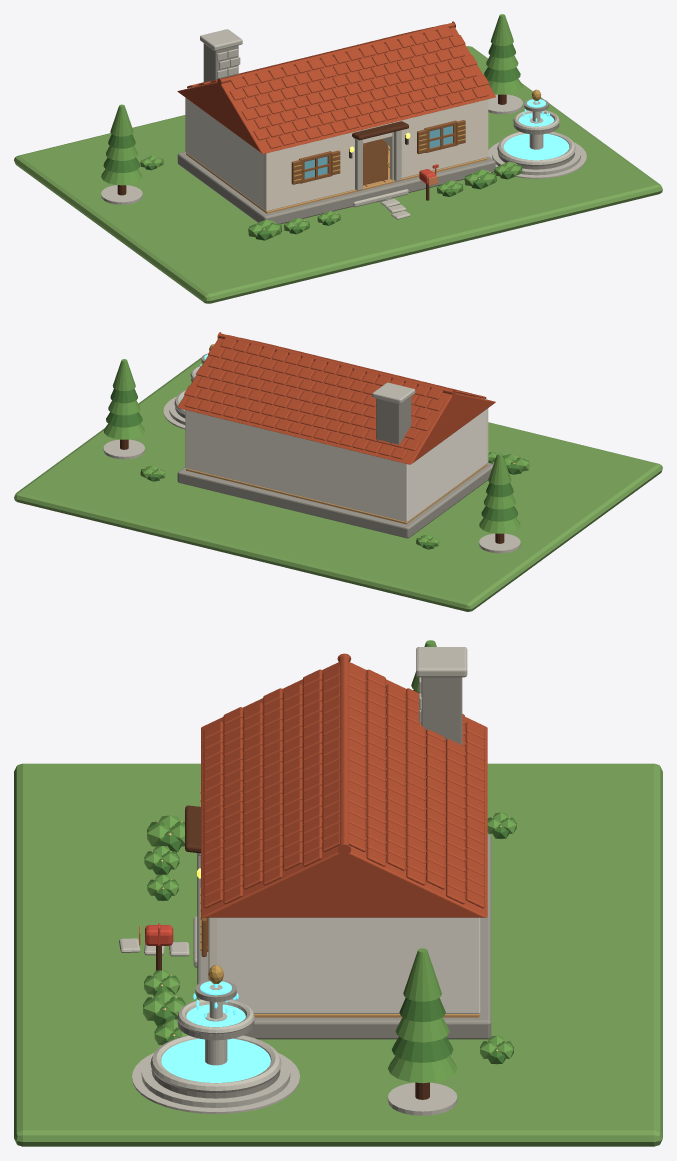
File: personal-space-cottage-Bm0NOQDy.glb
3 renders of one model, top to bottom at view 1: azimuth 30°, elevation 25°; view 2: azimuth 150°, elevation 25°; view 3: azimuth 270°, elevation 25°, orthographic. The views are drawn at different scales.
Parts seen in each view (by area): view 1: ENV_Grass_Island, EXTERIOR_Roof, ARCH_Left_Wall, EXTERIOR_Front_Wall_Left, ARCH_Foundation, EXTERIOR_Front_Wall_Right, ENV_Fountain_Lower_Water, EXTERIOR_Entry_Door, ARCH_Interior_Floor, ENV_Fountain_Lower_Rim, ARCH_Chimney_Core, ARCH_Chimney_Cap (+11 smaller); view 2: ENV_Grass_Island, EXTERIOR_Roof, ARCH_Back_Wall, ARCH_Foundation, ARCH_Left_Wall, ARCH_Chimney_Core, ARCH_Interior_Floor, ARCH_Chimney_Cap, ENV_Tree_Stone_Collar_0, ENV_Tree_Stone_Collar_1, ENV_Tree_Crown_1_0, ENV_Tree_Crown_0_0 (+4 smaller); view 3: ENV_Grass_Island, EXTERIOR_Roof, ARCH_Right_Wall, ARCH_Foundation, ENV_Fountain_Lower_Water, ARCH_Chimney_Core, ENV_Fountain_Lower_Rim, ENV_Fountain_Foundation, ENV_Fountain_Piazza, ENV_Tree_Stone_Collar_1, ARCH_Chimney_Cap, ENV_Tree_Crown_1_0 (+10 smaller).
Boxes of the visible parts, x1,y1,x2,y2 form: ENV_Grass_Island: (14,46,662,303); EXTERIOR_Roof: (177,21,495,153); ARCH_Left_Wall: (187,99,263,209); EXTERIOR_Front_Wall_Left: (263,130,361,211); ARCH_Foundation: (177,152,495,223); EXTERIOR_Front_Wall_Right: (390,99,488,180); ENV_Fountain_Lower_Water: (503,133,569,160); EXTERIOR_Entry_Door: (363,139,388,185); ARCH_Interior_Floor: (186,145,487,213); ENV_Fountain_Lower_Rim: (497,132,575,166); ARCH_Chimney_Core: (203,43,238,83); ARCH_Chimney_Cap: (200,29,242,50); ENV_Grass_Island: (14,357,662,611); EXTERIOR_Roof: (177,332,495,464); ARCH_Back_Wall: (185,410,409,521); ARCH_Foundation: (177,462,493,538); ARCH_Left_Wall: (409,409,486,519); ARCH_Chimney_Core: (376,397,411,444); ARCH_Interior_Floor: (186,464,487,524); ARCH_Chimney_Cap: (372,382,415,404); ENV_Tree_Stone_Collar_0: (479,533,520,553); ENV_Tree_Stone_Collar_1: (103,439,144,459); ENV_Tree_Crown_1_0: (103,423,144,439); ENV_Tree_Crown_0_0: (479,517,520,533); ENV_Grass_Island: (14,763,662,1146); EXTERIOR_Roof: (201,653,487,917); ARCH_Right_Wall: (215,917,472,1013); ARCH_Foundation: (197,834,491,1039); ENV_Fountain_Lower_Water: (161,1038,270,1082); ARCH_Chimney_Core: (421,677,462,744); ENV_Fountain_Lower_Rim: (150,1035,281,1092); ENV_Fountain_Foundation: (141,1055,290,1107); ENV_Fountain_Piazza: (132,1052,299,1113); ENV_Tree_Stone_Collar_1: (387,1082,457,1115); ARCH_Chimney_Cap: (416,647,467,677); ENV_Tree_Crown_1_0: (388,1056,457,1083).
Bounding box in the file's own units: 30 × 8.79 × 22.
